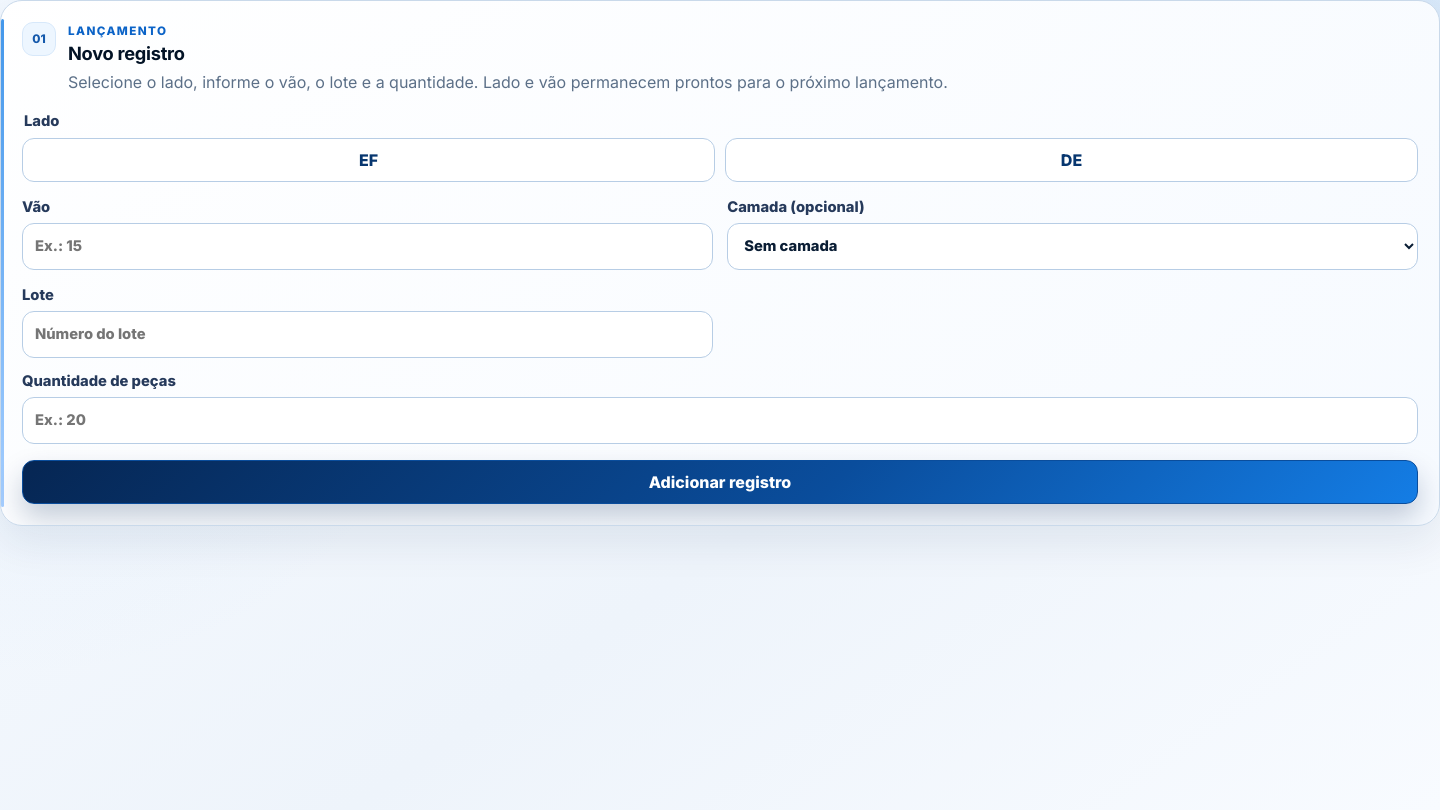
Test: preserva o formulário quando o armazenamento falha
Click the button "EF". click: (368, 160)
box: top-left (22, 138), bottom-right (715, 182)
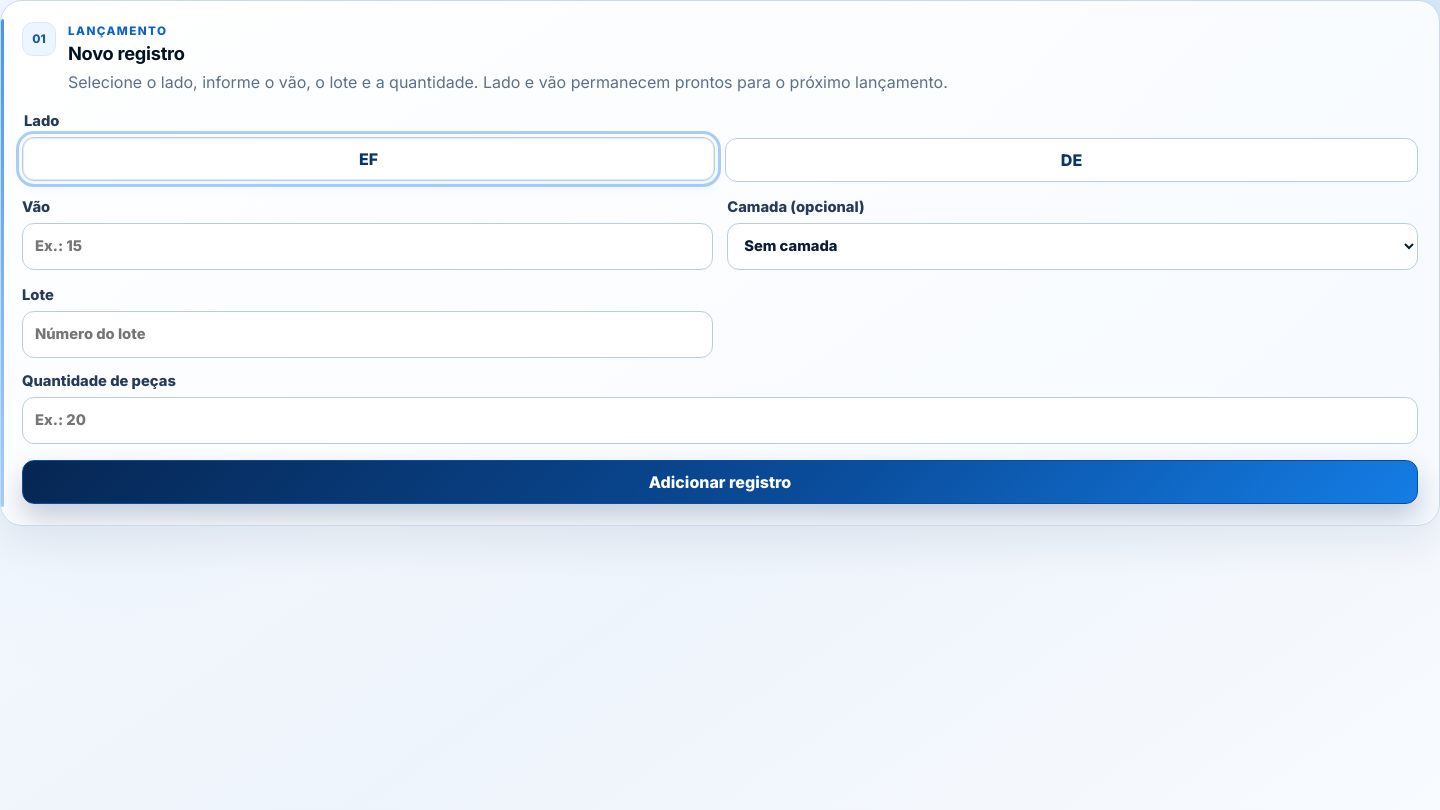
Type "12" into the field labelled "Vão". click: (367, 246)
box: top-left (22, 222), bottom-right (713, 270)
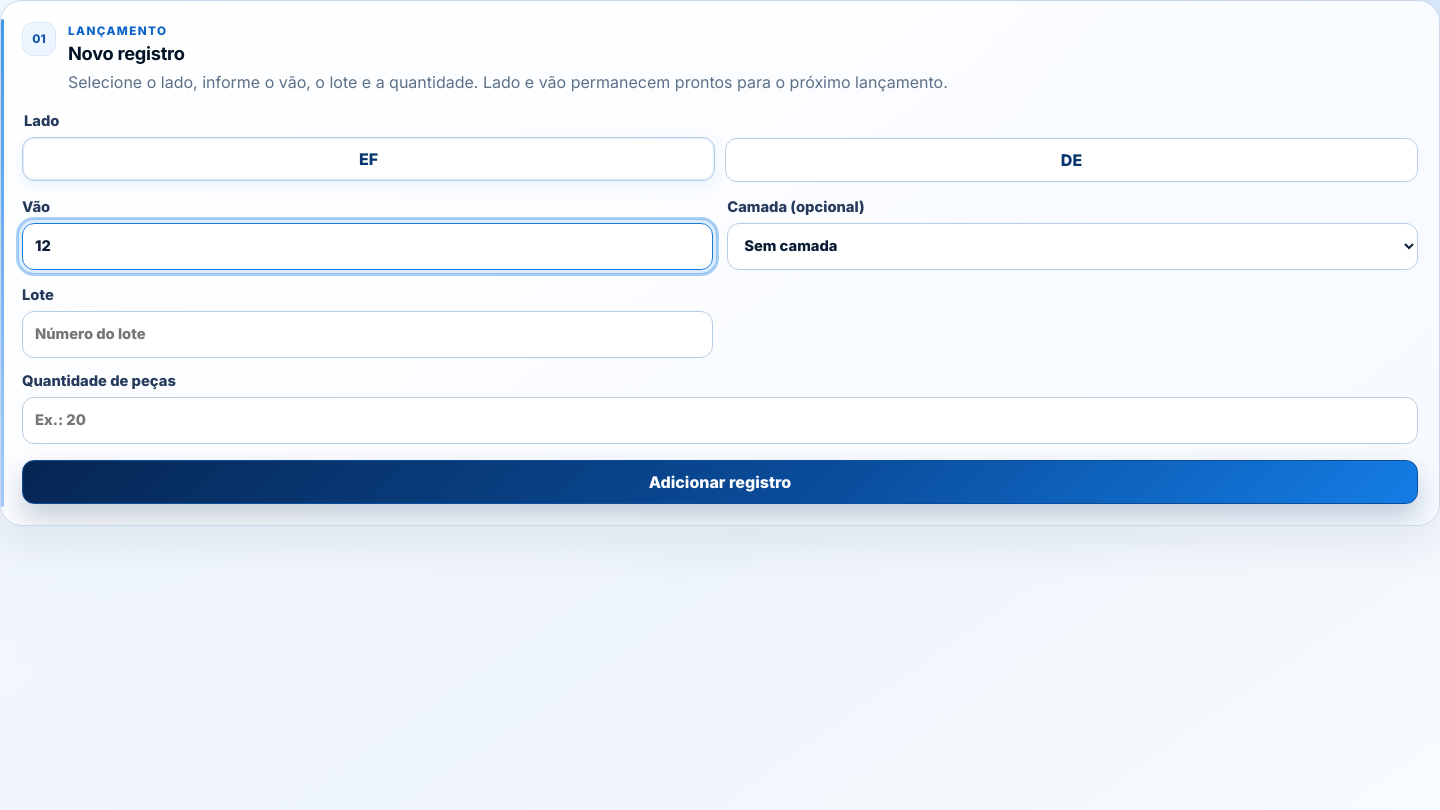
Select "A2" in the dropdown labelled "Camada (opcional)". click: (1073, 246)
box: top-left (727, 222), bottom-right (1418, 270)
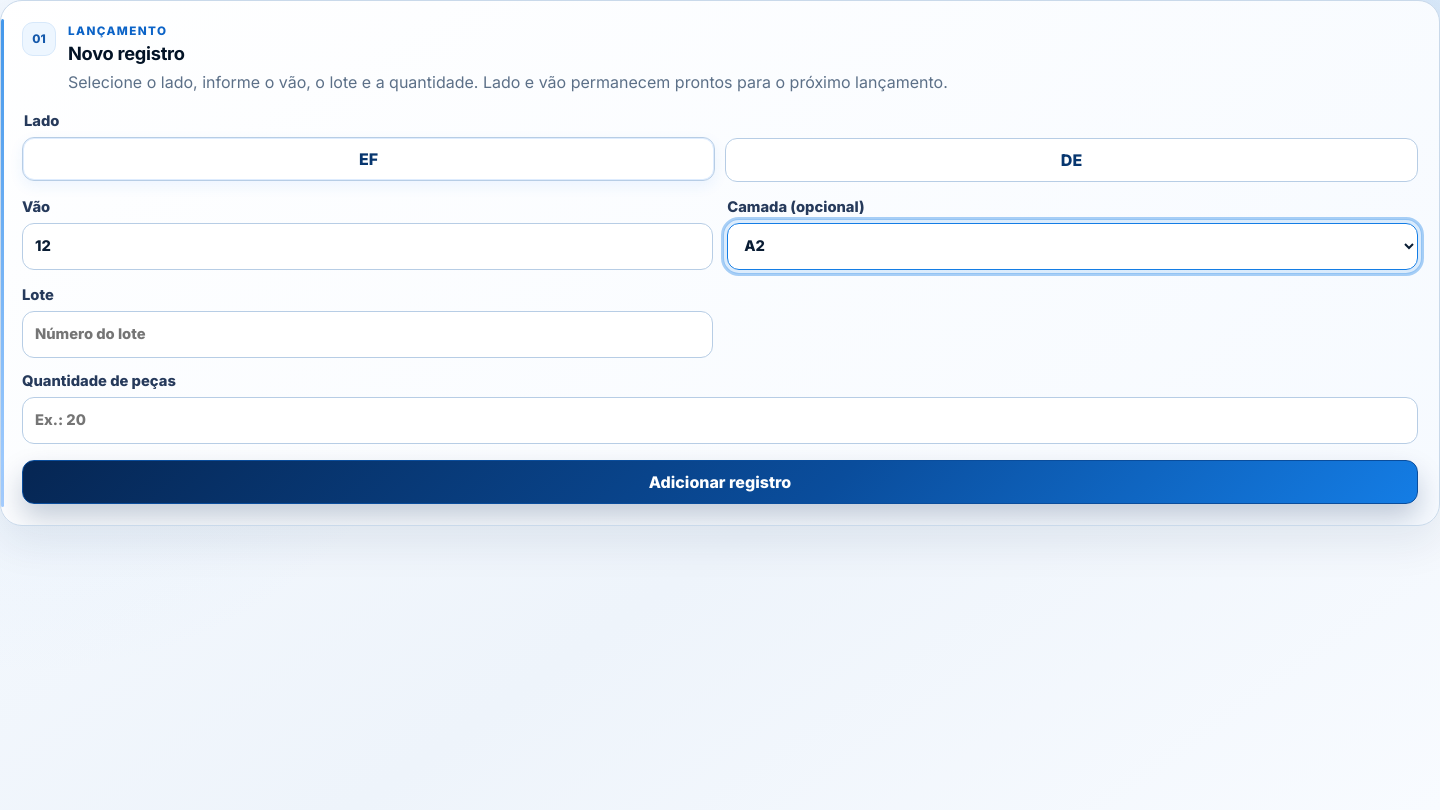
Type "2712345678" into the field labelled "Lote". click: (368, 334)
box: top-left (22, 310), bottom-right (713, 358)
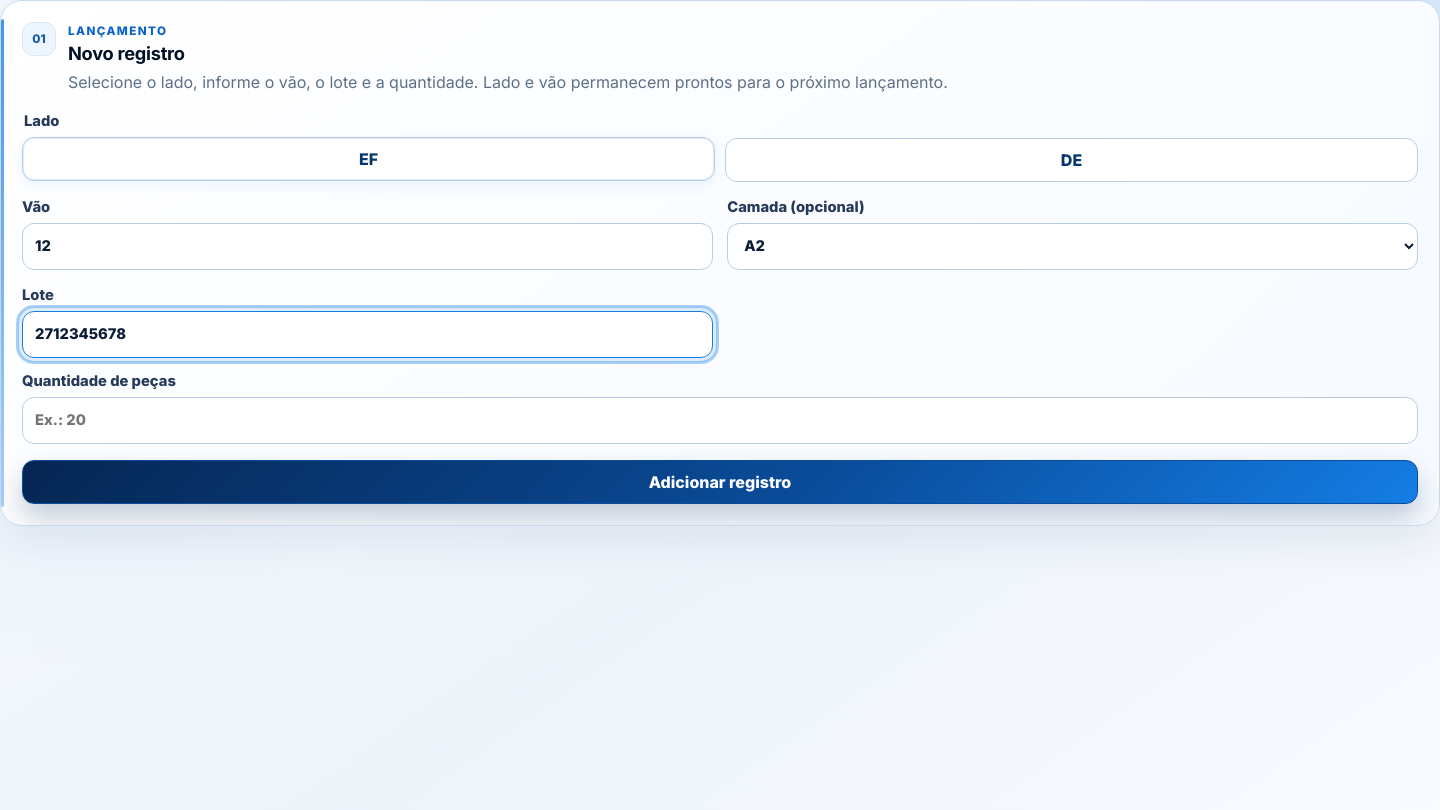
Type "3" into the field labelled "Quantidade de peças". click: (720, 420)
box: top-left (22, 396), bottom-right (1418, 444)
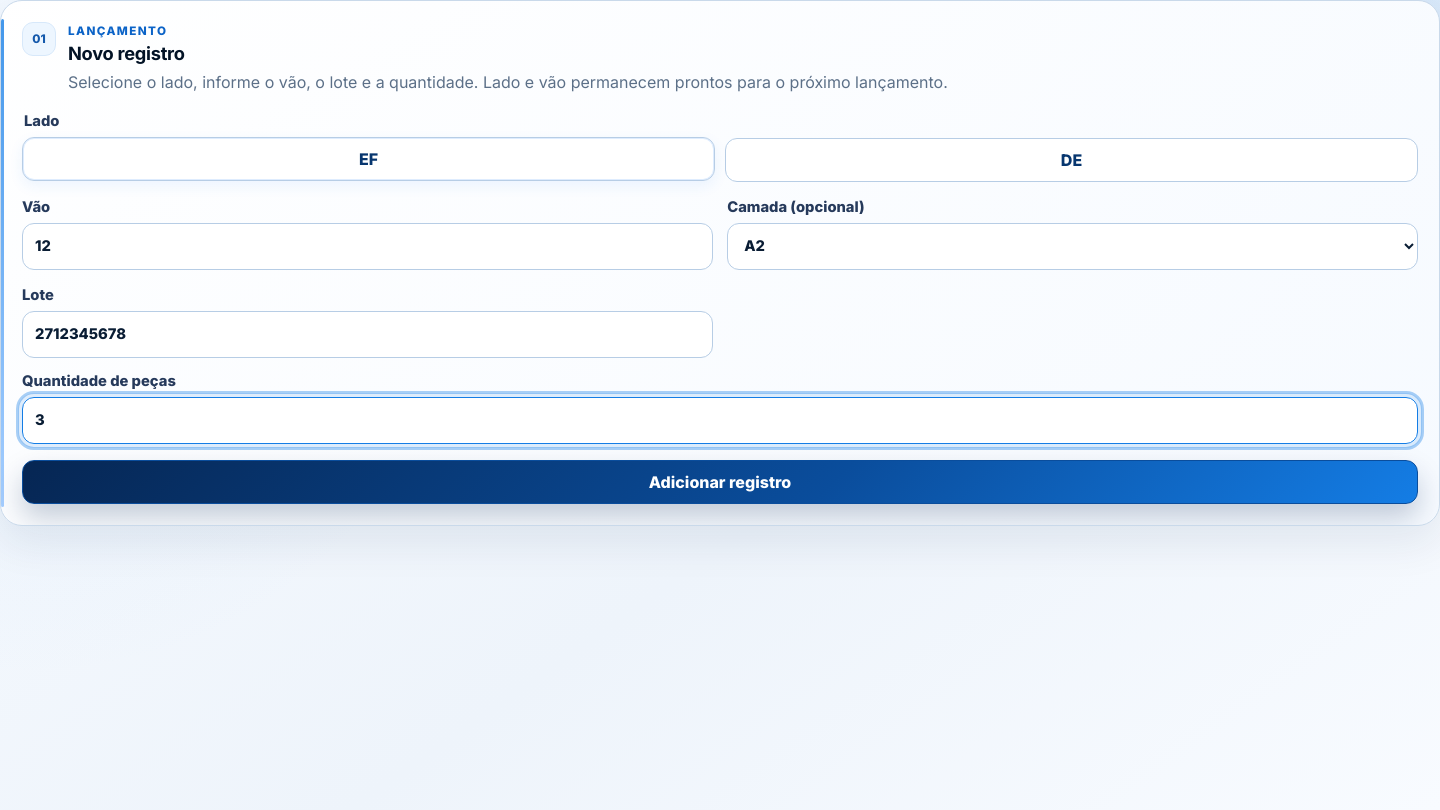
Click the button "Adicionar registro". click: (720, 482)
box: top-left (22, 460), bottom-right (1418, 504)
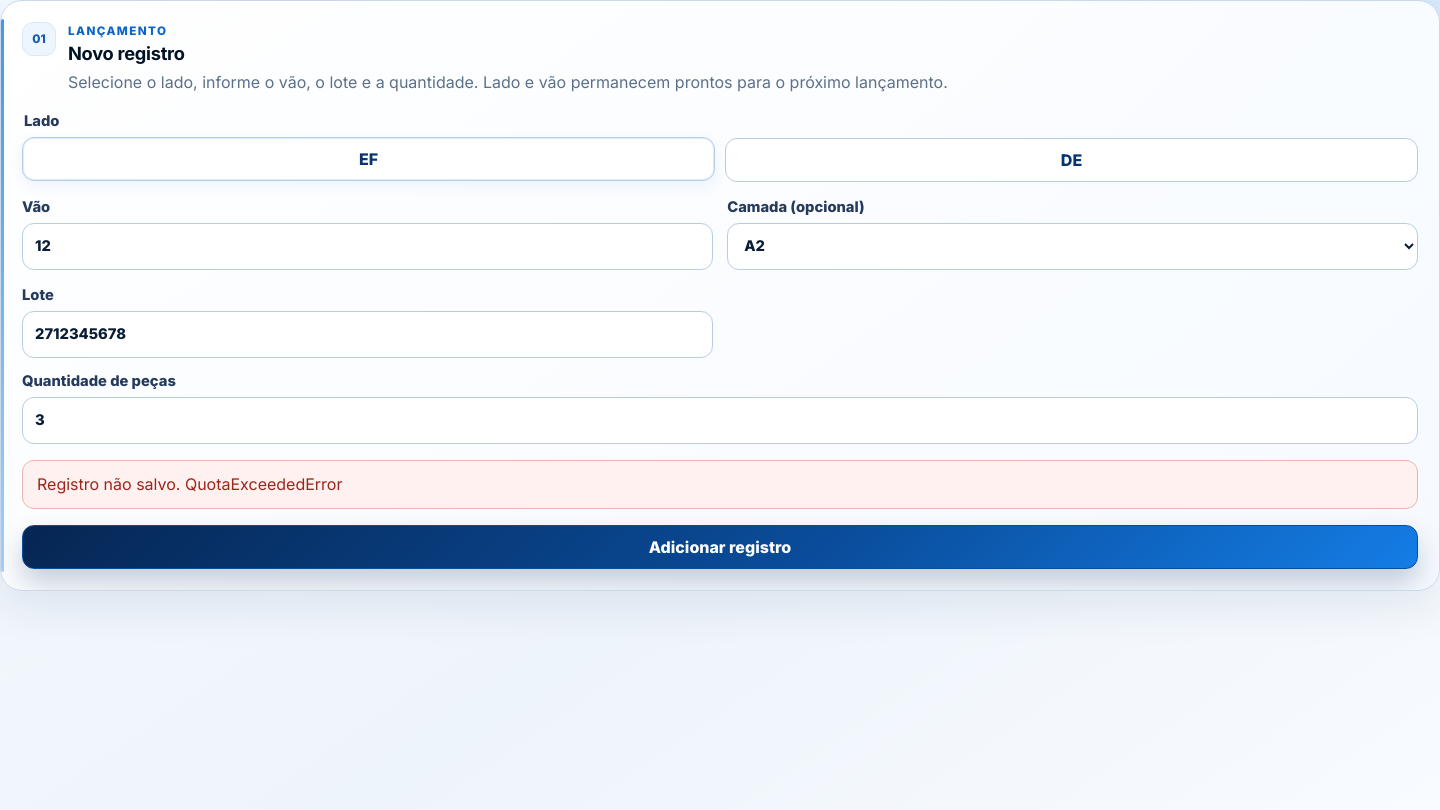
Expected: the message shows "Registro não salvo", top-left (37, 474), bottom-right (342, 494)
